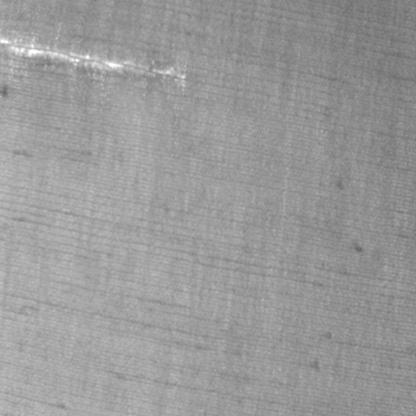hole: (0, 27, 190, 96)
